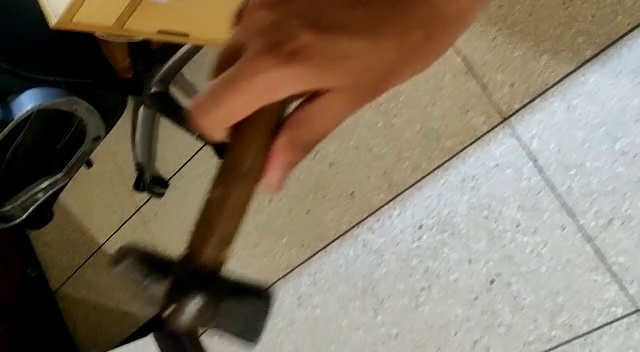hammer: (110, 108, 289, 345)
